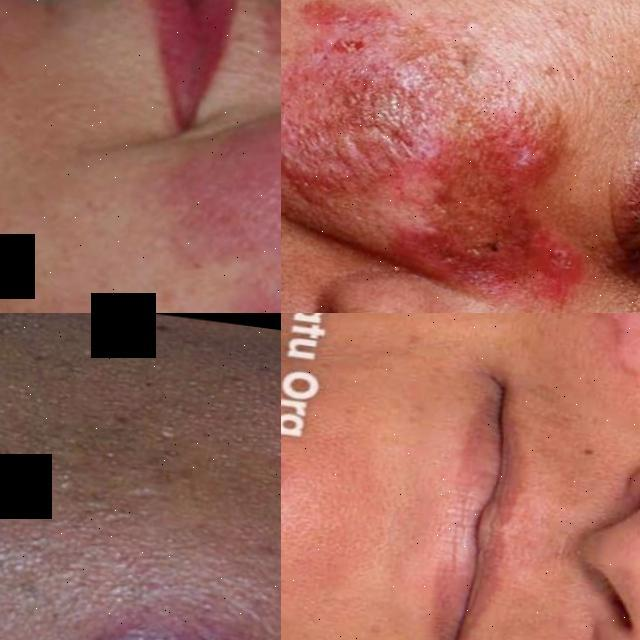lupus-detected: (281, 0, 623, 313), (87, 74, 281, 313), (0, 528, 281, 640), (501, 313, 640, 486), (281, 439, 343, 628)
